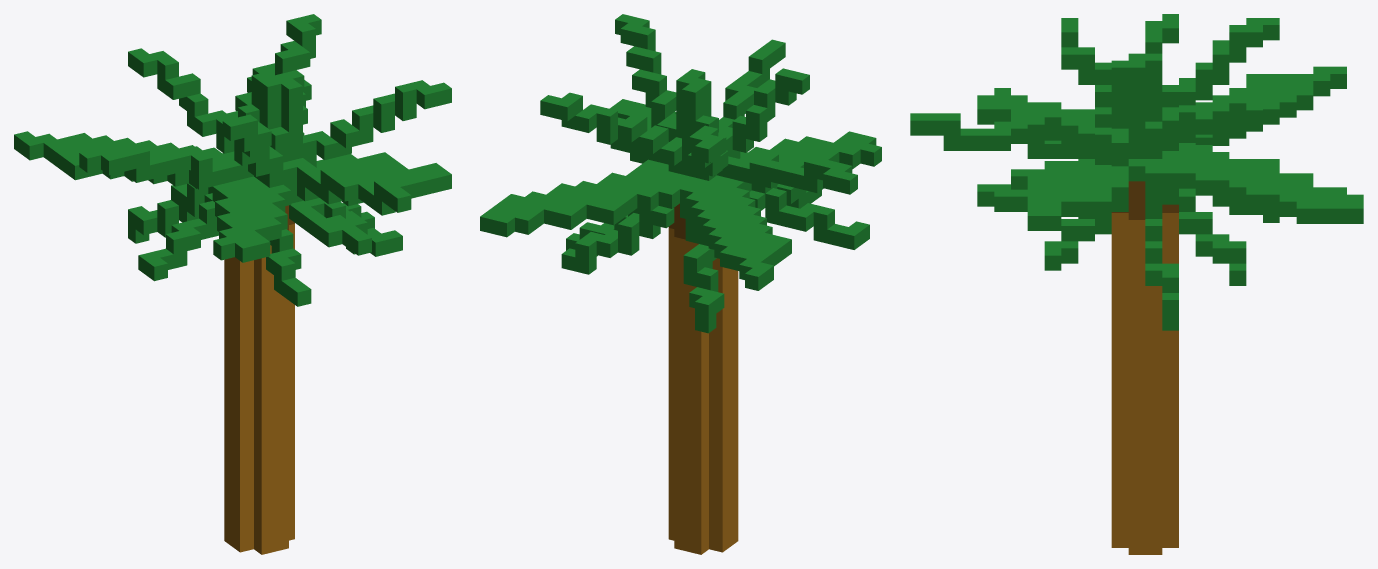
File: Palmboom.obj
The picture shows the model from 3 angles, left to right: view 1: azimuth 30°, elevation 25°; view 2: azimuth 150°, elevation 25°; view 3: azimuth 270°, elevation 25°; orthographic projection. The views are drawn at different scales.
Bounding box in the file's own units: 2.2 × 3.2 × 2.7.
1 material, 1 textured.
